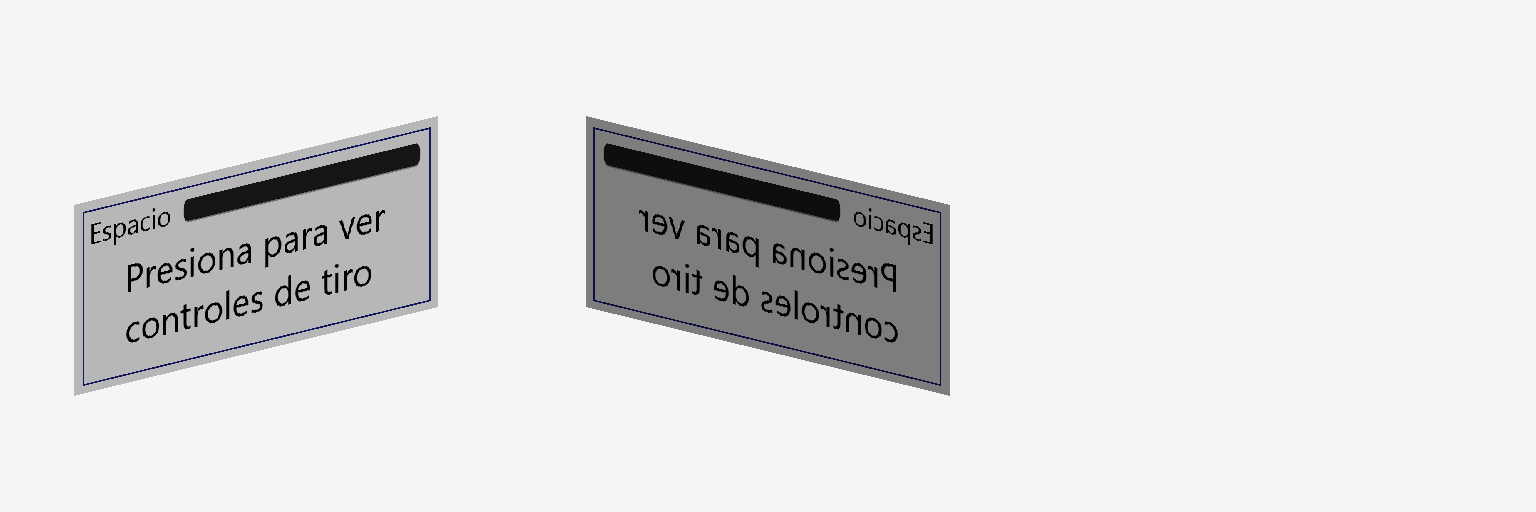
3 renders of one model, left to right at view 1: azimuth 30°, elevation 25°; view 2: azimuth 150°, elevation 25°; view 3: azimuth 270°, elevation 25°, orthographic.
Visible parts, largest first — view 1: pPlane1; view 2: pPlane1; view 3: none.
Part boxes in pixels (bbox=[...]): pPlane1: bbox=[74, 116, 437, 395]; pPlane1: bbox=[586, 116, 949, 395].
Bounding box in the file's own units: 1.5 × 0.75 × 0.
Materials: 1 (1 with a texture image).